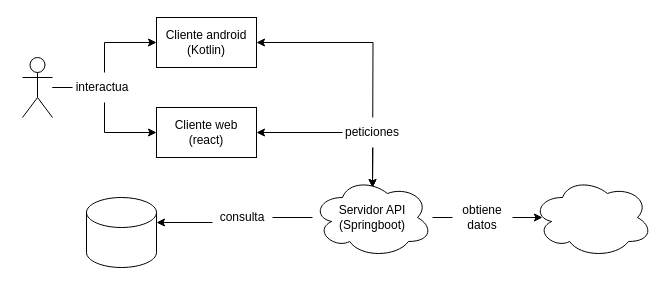
Some shapes in this 670 by 285 pixel diagram are drawn without their labels. The shapes that lost their labels are listed below. From the top down, each one's box as (x1, y1, x2, y2) in pixels, then its label:
(22, 56, 52, 118): Usuario
(86, 196, 156, 268): BBDD (msyql)
(532, 176, 652, 258): APIs externas
